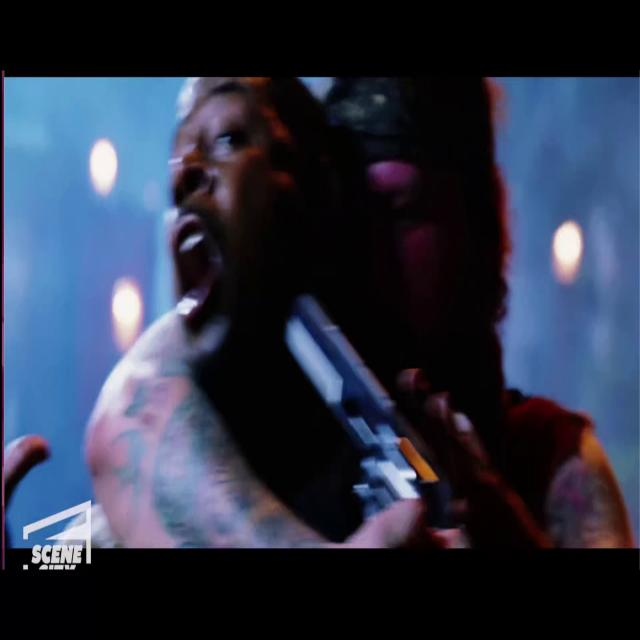weapons: (271, 255, 512, 553)
